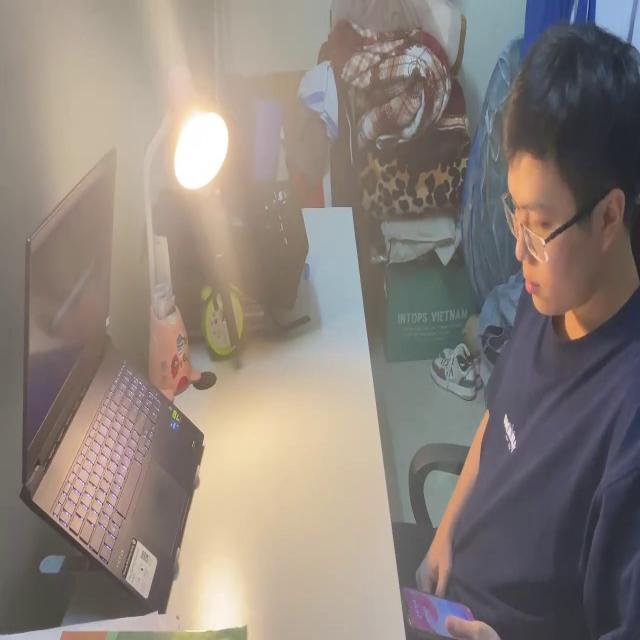book: (0, 610, 248, 640)
laptop: (18, 142, 205, 606)
phone: (398, 581, 476, 640)
student: (404, 23, 640, 640)
